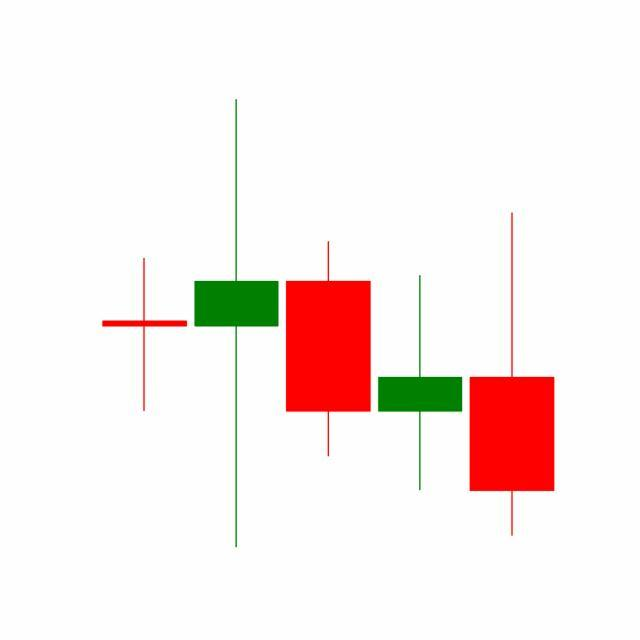Spinning Top: (374, 273, 468, 494)
